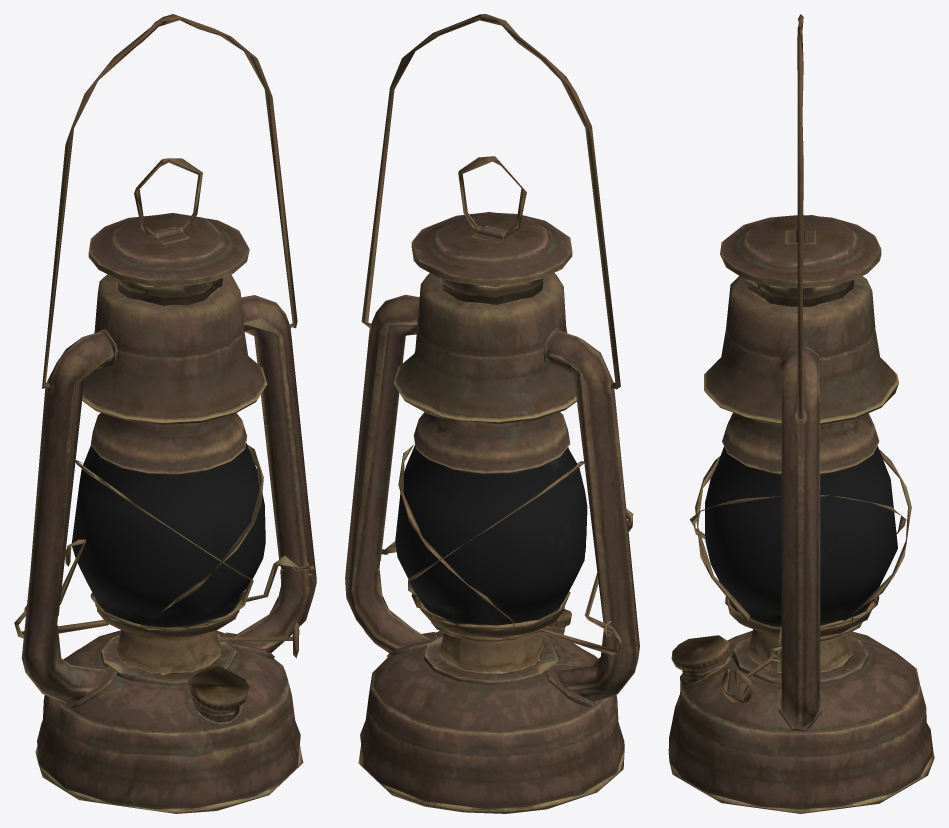
File: Lantern_01.glb
The picture shows the model from 3 angles, left to right: view 1: azimuth 30°, elevation 25°; view 2: azimuth 150°, elevation 25°; view 3: azimuth 270°, elevation 25°; orthographic projection.
Parts seen in each view (by area): view 1: Lantern_01, Lantern_01_glass; view 2: Lantern_01, Lantern_01_glass; view 3: Lantern_01, Lantern_01_glass.
Part boxes in pixels (x1,y1,x2,y2): Lantern_01: [14, 14, 316, 813]; Lantern_01_glass: [72, 443, 265, 627]; Lantern_01: [345, 14, 639, 813]; Lantern_01_glass: [395, 445, 587, 625]; Lantern_01: [668, 14, 934, 813]; Lantern_01_glass: [705, 446, 897, 626].
Bounding box in the file's own units: 0.1219 × 0.2938 × 0.0958.
2 materials, 2 textured.
